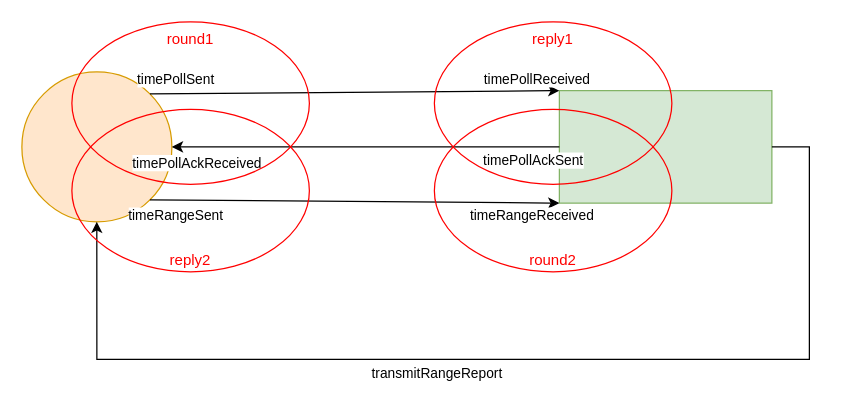
This 841x403 diagram has some shape labels left out. The shapes that lost their labels are listed below. From the top down, each one's centre as x and y in pixels, then its label:
At point (96, 146): "TAG".
At point (665, 146): "ANCHOR".
